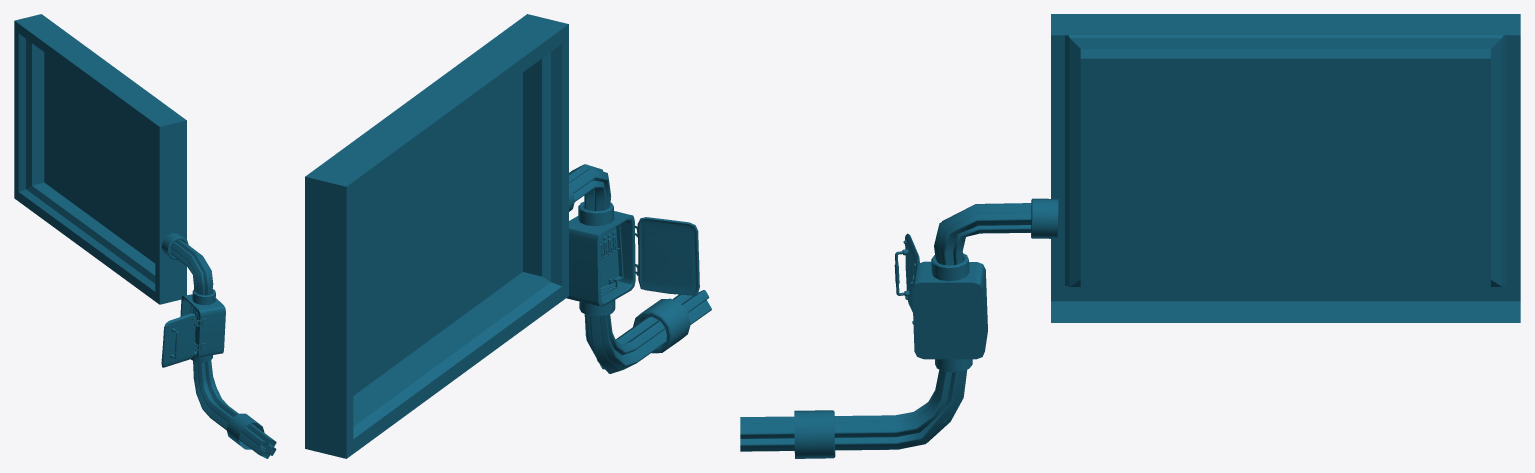
The model's file is Breakerbox.fbx.
The picture shows the model from 3 angles, left to right: view 1: azimuth 30°, elevation 25°; view 2: azimuth 150°, elevation 25°; view 3: azimuth 270°, elevation 25°; orthographic projection. The views are drawn at different scales.
Visible parts, largest first — view 1: Housing_Geo, BreakerDoor_Geo; view 2: Housing_Geo, BreakerDoor_Geo; view 3: Housing_Geo, BreakerDoor_Geo.
Boxes of the visible parts, left/top/right/bottom form: Housing_Geo: left=14, top=14, right=276, bottom=458; BreakerDoor_Geo: left=161, top=313, right=198, bottom=367; Housing_Geo: left=305, top=14, right=711, bottom=458; BreakerDoor_Geo: left=636, top=217, right=699, bottom=295; Housing_Geo: left=740, top=14, right=1520, bottom=458; BreakerDoor_Geo: left=894, top=233, right=919, bottom=312.
Size of the model in its own units: 77.94 by 289 by 472.
